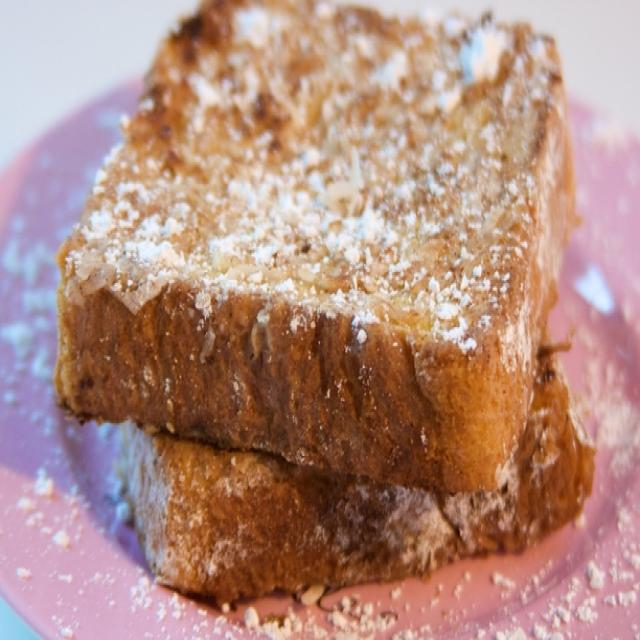面包点心: (14, 5, 632, 621)
